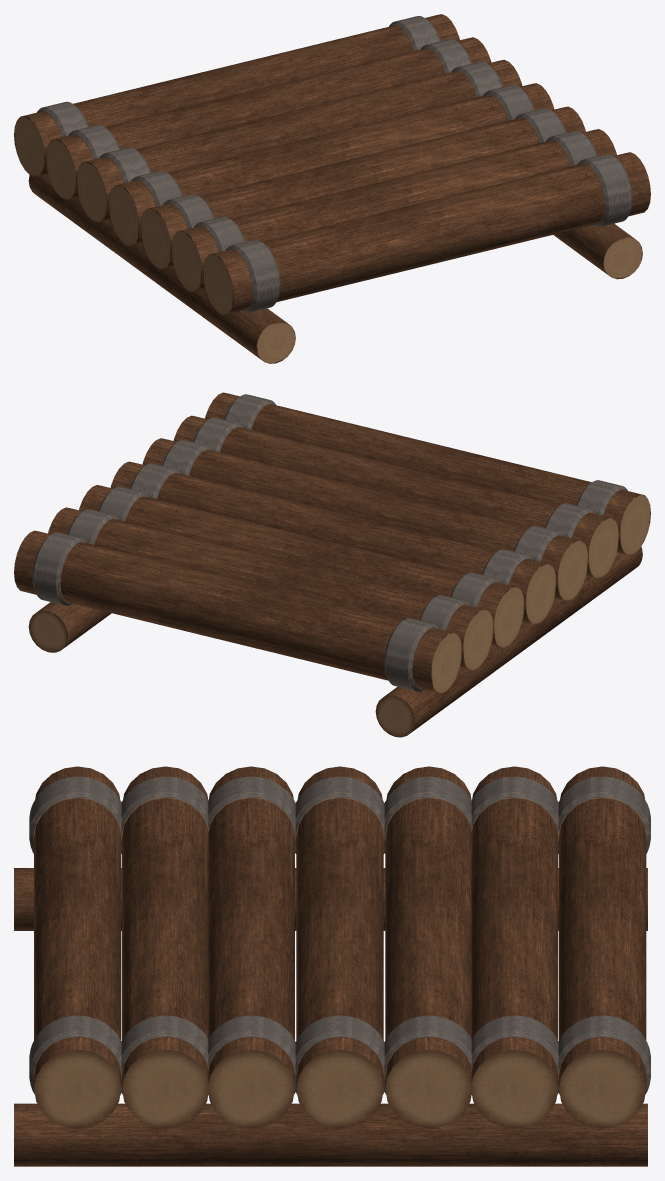
3 views of the same model, one above another, from view 1: azimuth 30°, elevation 25°; view 2: azimuth 150°, elevation 25°; view 3: azimuth 270°, elevation 25° (orthographic). The views are drawn at different scales.
Visible parts, largest first — view 1: sNSC:pasted__pCylinder3_pasted__pCylinder3, sNSC:pasted__pCylinder1_pasted__pCylinder1, sNSC:pasted__pCylinder4_pasted__pCylinder4, sNSC:pCylinder3_pCylinder3, sNSC:pCylinder6_pCylinder6; view 2: sNSC:pasted__pCylinder3_pasted__pCylinder3, sNSC:pasted__pCylinder1_pasted__pCylinder1, sNSC:pasted__pCylinder4_pasted__pCylinder4, sNSC:pCylinder3_pCylinder3, sNSC:pCylinder6_pCylinder6; view 3: sNSC:pasted__pCylinder3_pasted__pCylinder3, sNSC:pasted__pCylinder4_pasted__pCylinder4, sNSC:pasted__pCylinder1_pasted__pCylinder1, sNSC:pCylinder6_pCylinder6, sNSC:pCylinder3_pCylinder3.
Boxes of the visible parts, x1=… form: sNSC:pasted__pCylinder3_pasted__pCylinder3: x1=14, y1=14, x2=650, y2=314; sNSC:pasted__pCylinder1_pasted__pCylinder1: x1=76, y1=60, x2=585, y2=269; sNSC:pasted__pCylinder4_pasted__pCylinder4: x1=45, y1=37, x2=616, y2=291; sNSC:pCylinder3_pCylinder3: x1=108, y1=83, x2=554, y2=245; sNSC:pCylinder6_pCylinder6: x1=28, y1=174, x2=642, y2=363; sNSC:pasted__pCylinder3_pasted__pCylinder3: x1=14, y1=392, x2=650, y2=693; sNSC:pasted__pCylinder1_pasted__pCylinder1: x1=79, y1=438, x2=588, y2=647; sNSC:pasted__pCylinder4_pasted__pCylinder4: x1=48, y1=415, x2=619, y2=670; sNSC:pCylinder3_pCylinder3: x1=110, y1=461, x2=556, y2=624; sNSC:pCylinder6_pCylinder6: x1=28, y1=546, x2=642, y2=737; sNSC:pasted__pCylinder3_pasted__pCylinder3: x1=29, y1=766, x2=650, y2=1128; sNSC:pasted__pCylinder4_pasted__pCylinder4: x1=121, y1=766, x2=558, y2=1128; sNSC:pasted__pCylinder1_pasted__pCylinder1: x1=207, y1=766, x2=472, y2=1128; sNSC:pCylinder6_pCylinder6: x1=14, y1=868, x2=647, y2=1166; sNSC:pCylinder3_pCylinder3: x1=295, y1=766, x2=384, y2=1128.
Bounding box in the file's own units: 15.35 × 3.6 × 14.59.
2 materials, 2 textured.
